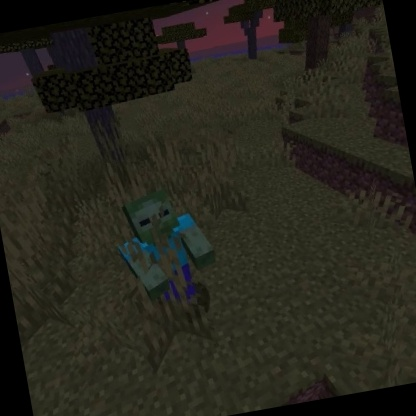zombie: (104, 177, 228, 327)
